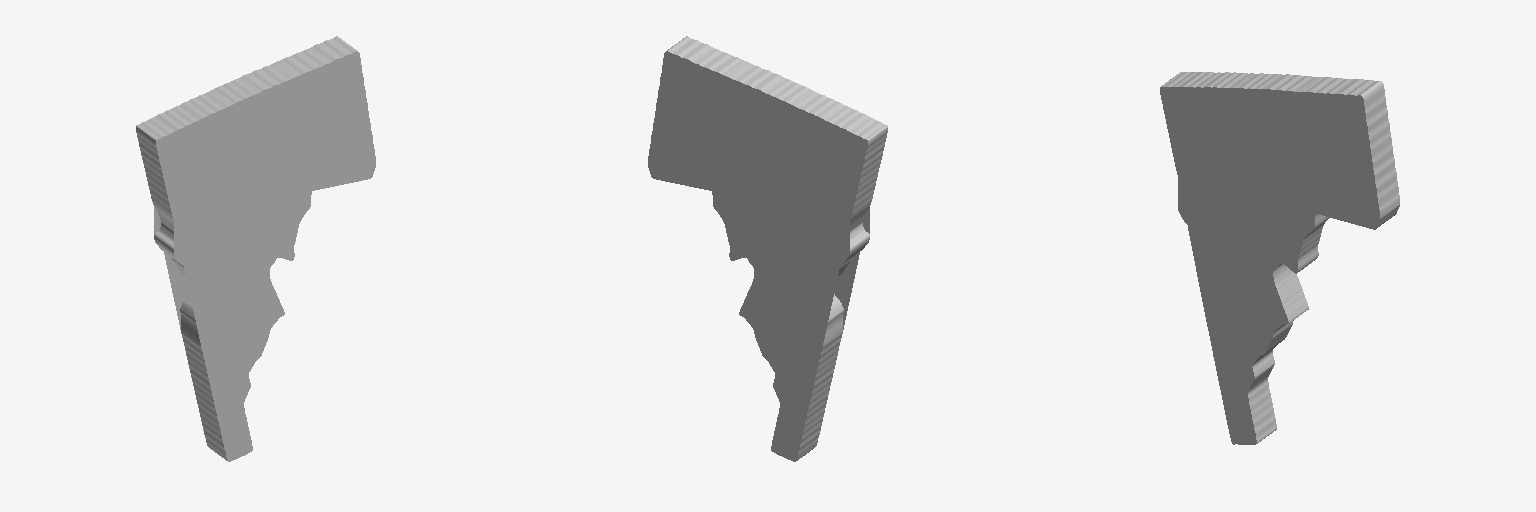
The picture shows the model from 3 angles: view 1: azimuth 30°, elevation 25°; view 2: azimuth 150°, elevation 25°; view 3: azimuth 330°, elevation 25°; orthographic projection.
Parts seen in each view (by area): view 1: 平面; view 2: 平面; view 3: 平面.
Part boxes in pixels (bbox=[...]): 平面: bbox=[136, 36, 375, 461]; 平面: bbox=[648, 36, 887, 461]; 平面: bbox=[1160, 72, 1399, 444].
Size of the model in its own units: 1.26 by 2.07 by 0.2.